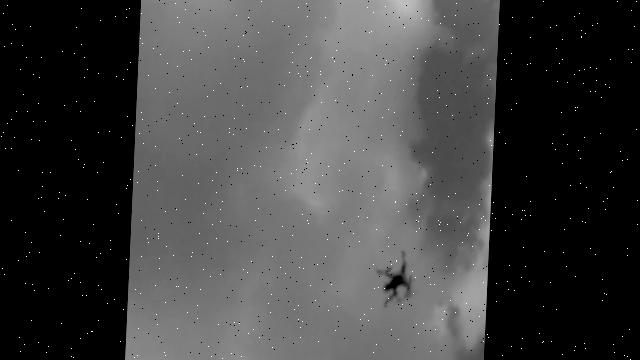drone: (375, 250, 415, 308)
